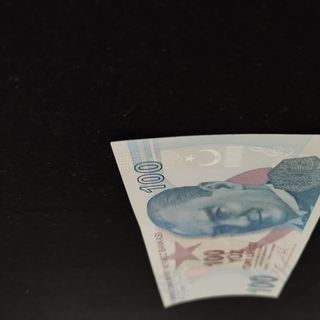100TLFront: (110, 133, 320, 309)
